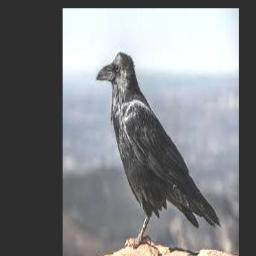Crow: (96, 51, 222, 249)
